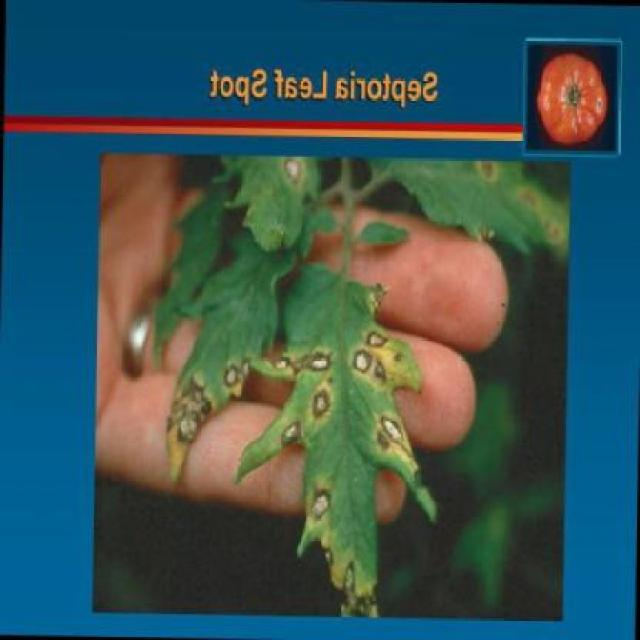Septoria leaf spot: (248, 270, 444, 613), (356, 148, 576, 260), (161, 237, 259, 486)
